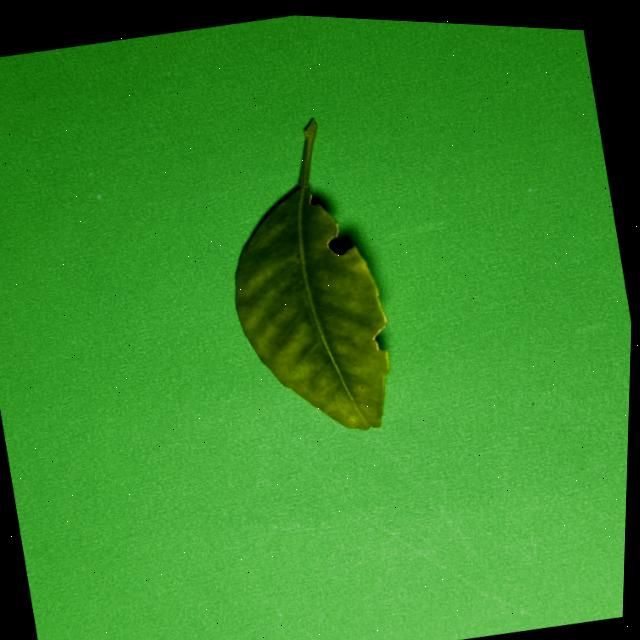greening: (234, 119, 388, 429)
